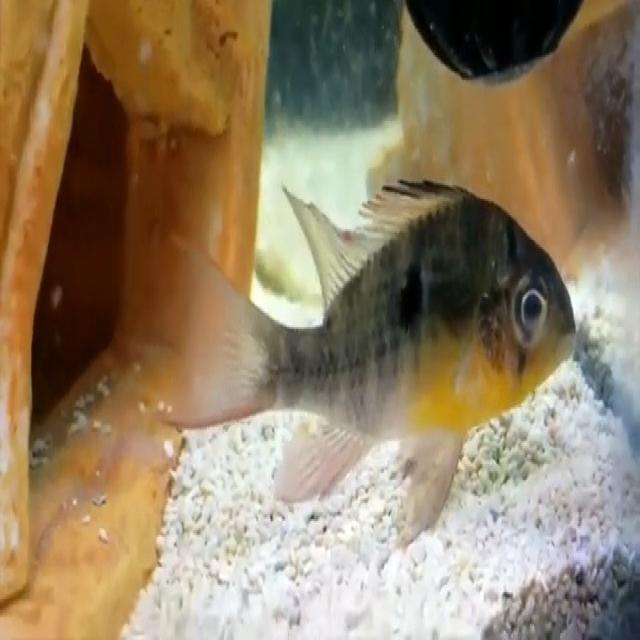fish: (164, 169, 584, 557)
